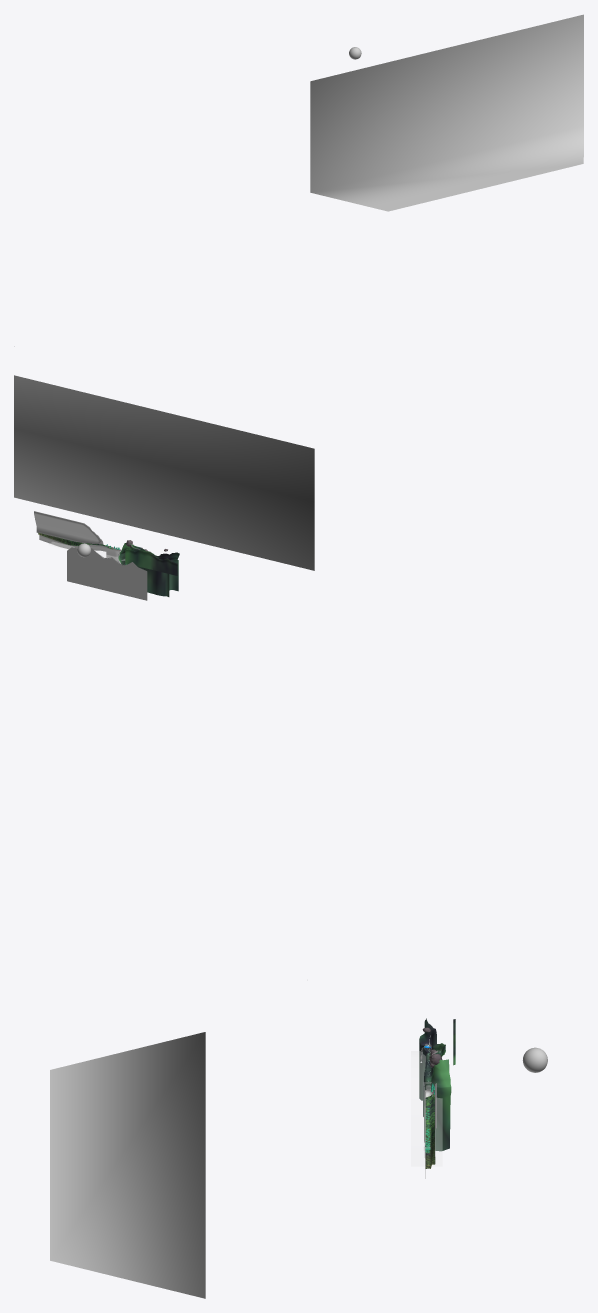
Rendered from Map5.dae.
The picture shows the model from 3 angles, top to bottom: view 1: azimuth 30°, elevation 25°; view 2: azimuth 150°, elevation 25°; view 3: azimuth 270°, elevation 25°; orthographic projection. The views are drawn at different scales.
Visible parts, largest first — view 1: World_003; view 2: World_003, flr-grad, World-gnd_000, World-001; view 3: World_003, World-001, trigger-fallCatch, World-gnd_000.
Boxes of the visible parts, x1,y1,x2,y2 form: World_003: (310, 14, 583, 211); World_003: (14, 375, 314, 570); flr-grad: (67, 547, 147, 600); World-gnd_000: (34, 511, 121, 563); World-001: (118, 543, 179, 596); World_003: (50, 1032, 205, 1298); World-001: (419, 1018, 455, 1151); trigger-fallCatch: (411, 1051, 442, 1166); World-gnd_000: (424, 1083, 436, 1178).
Size of the model in its own units: 604 by 239 by 231.
